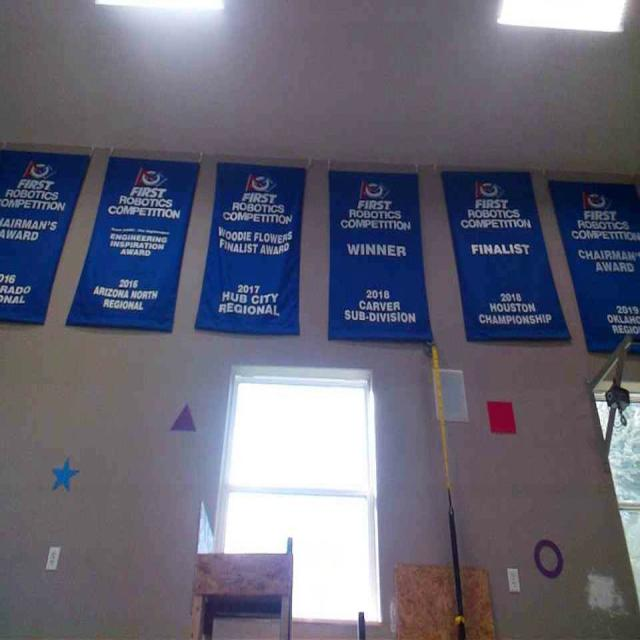ring_purple: (533, 538, 563, 578)
square_red: (485, 400, 517, 433)
star_blue: (50, 456, 80, 492)
triangle_purple: (169, 405, 196, 431)
